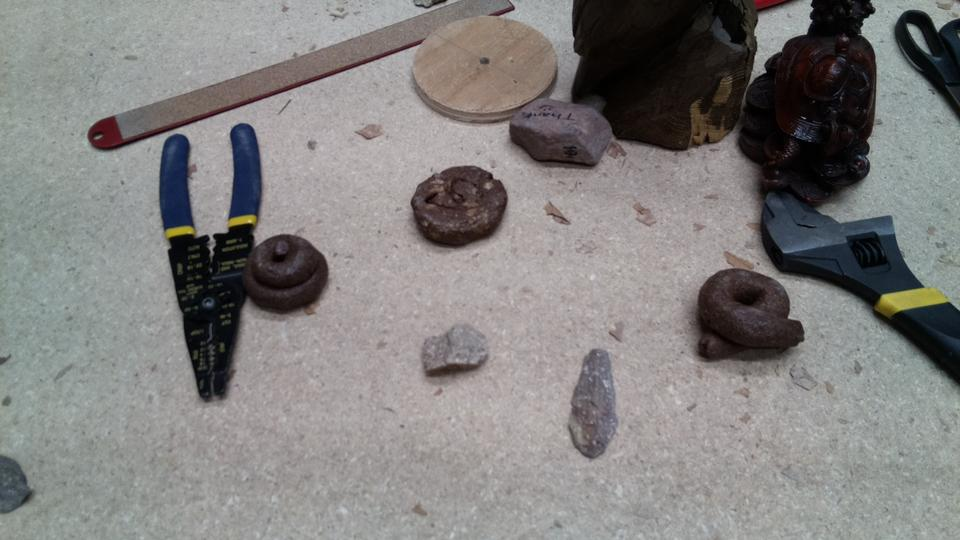poop: (694, 266, 806, 364), (408, 163, 511, 246), (241, 230, 334, 311)
